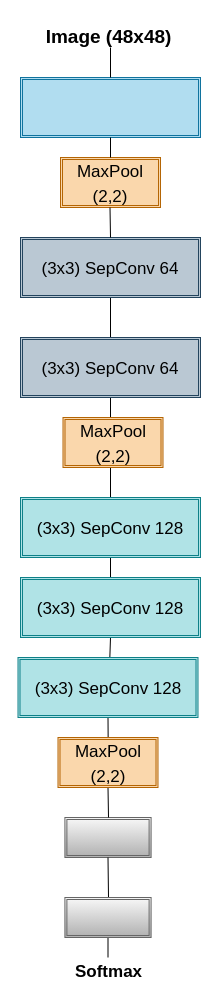
Image size: 218x1004. Some labels were removed from this diagram. The shapes that lost their labels are listed below. From the top down, each one's box as (x1, y1, x2, y2) in pixels, then its label:
(20, 76, 200, 138): (3x3) SepConv 32
(64, 816, 151, 858): FC 256
(64, 896, 151, 938): FC 2
